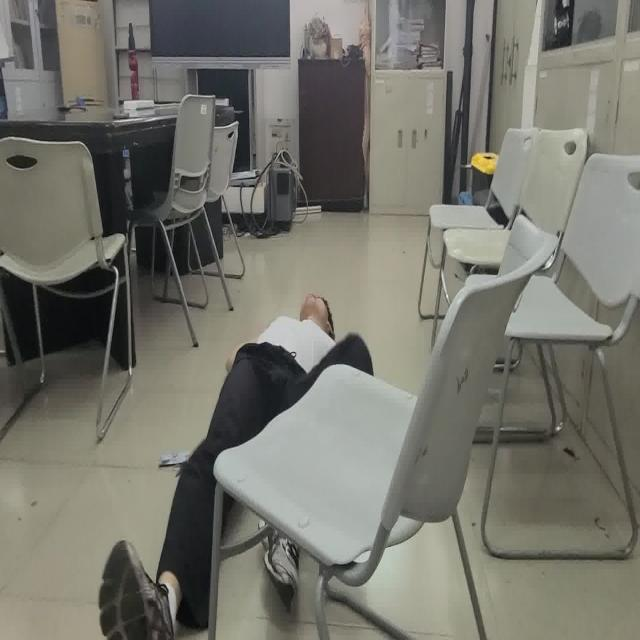Fall-Detected: (97, 289, 376, 640)
